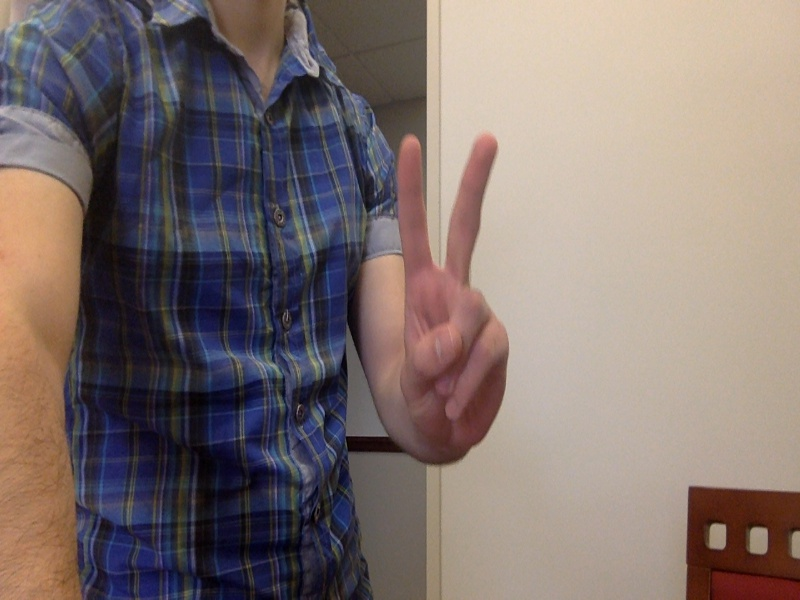2-hand: (385, 134, 513, 470)
